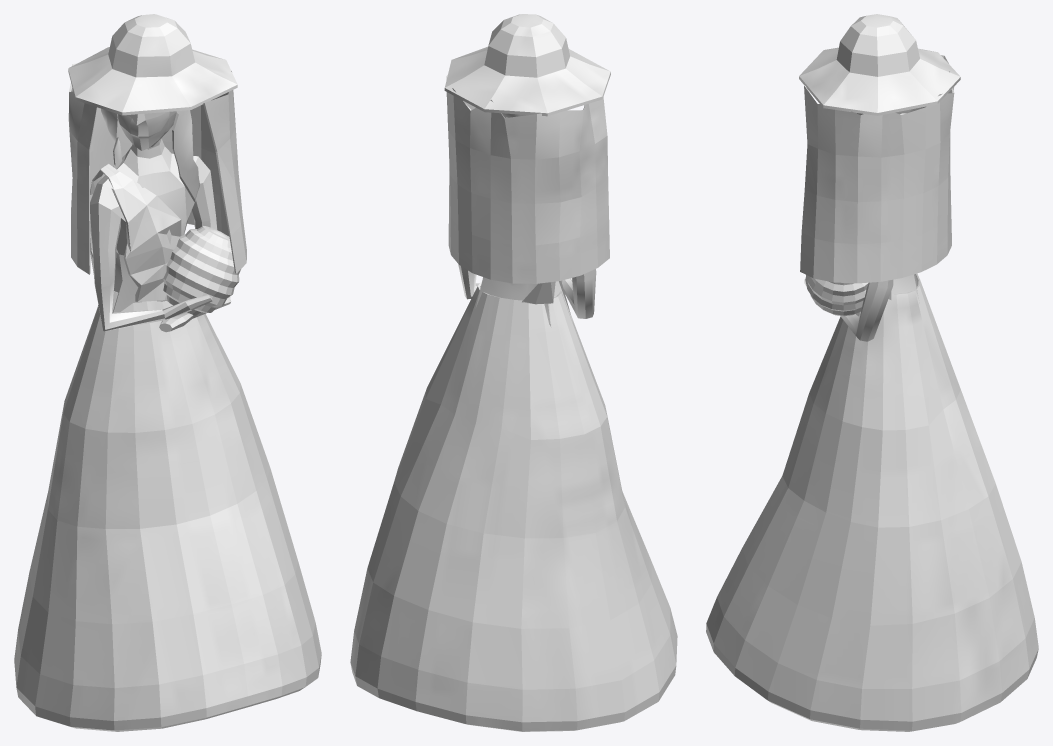
Rendered from women.fbx.
The picture shows the model from 3 angles, left to right: view 1: azimuth 30°, elevation 25°; view 2: azimuth 150°, elevation 25°; view 3: azimuth 270°, elevation 25°; orthographic projection. The views are drawn at different scales.
Visible parts, largest first — view 1: polySurface7; view 2: polySurface7; view 3: polySurface7.
Boxes of the visible parts, x1,y1,x2,y2 form: polySurface7: (14,14,321,731); polySurface7: (350,14,677,731); polySurface7: (706,14,1038,731).
Bounding box in the file's own units: 3.13 × 7.28 × 3.38.
1 material, 1 textured.
